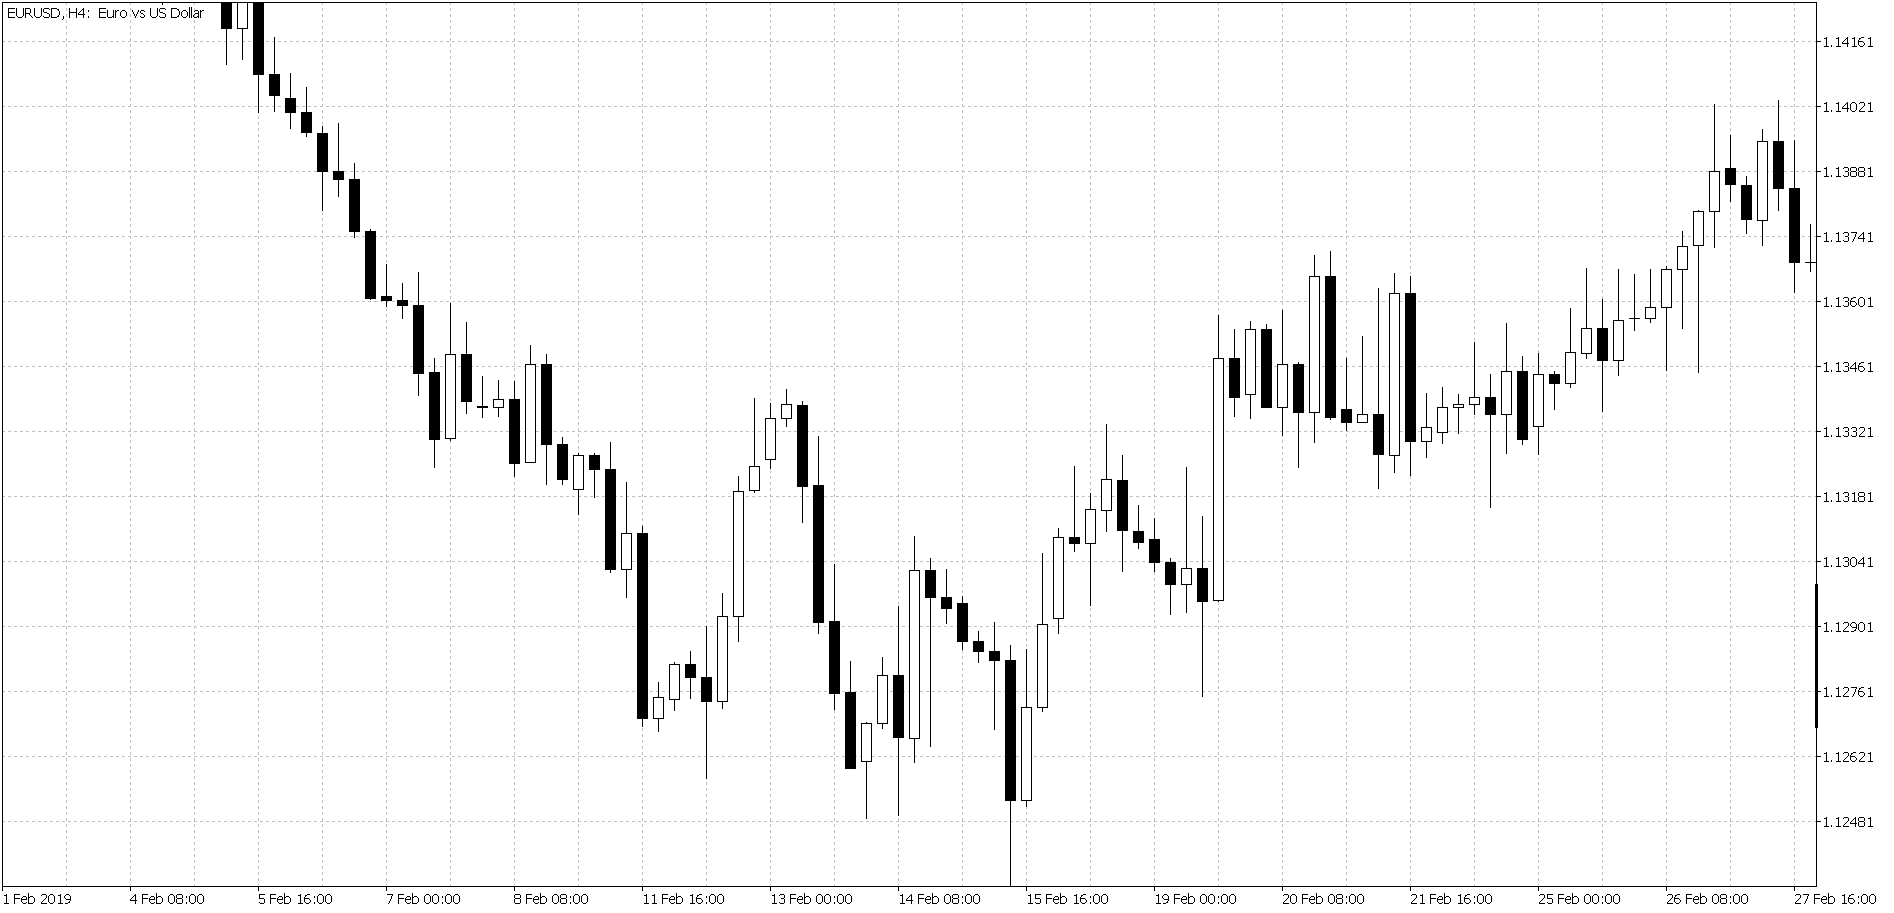3blackcrows: (794, 388, 842, 725)
bearishEngulfing: (1098, 440, 1128, 554)
